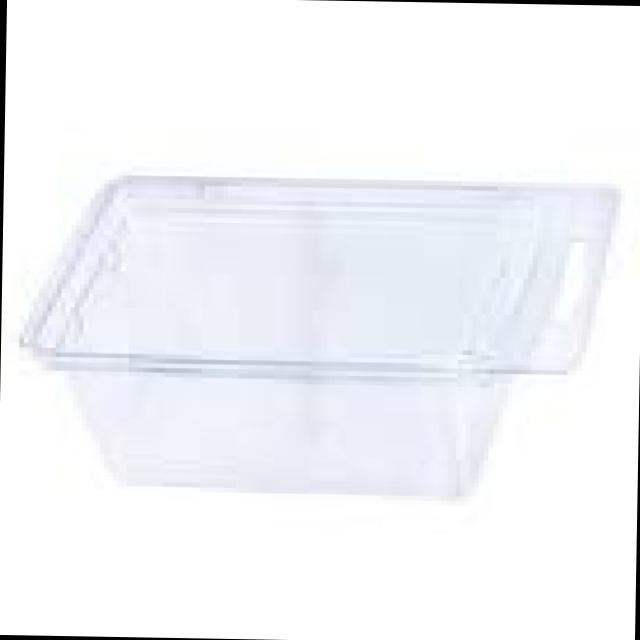Clamshell: (12, 145, 633, 528)
